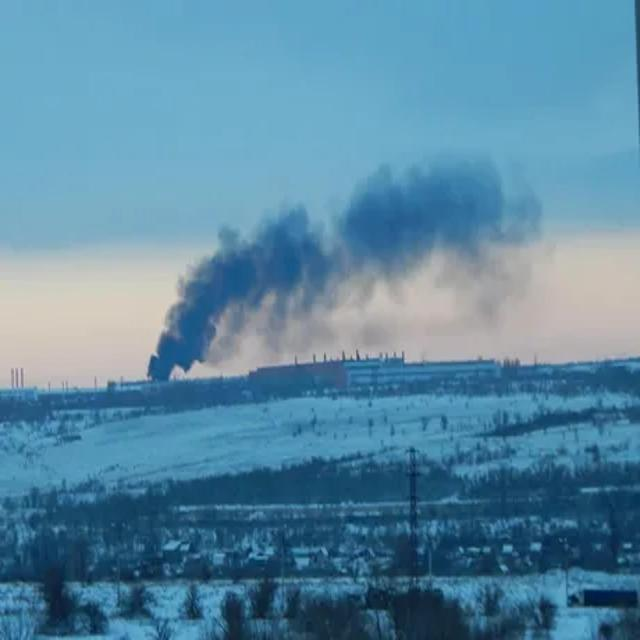Smoke: (148, 157, 526, 379)
